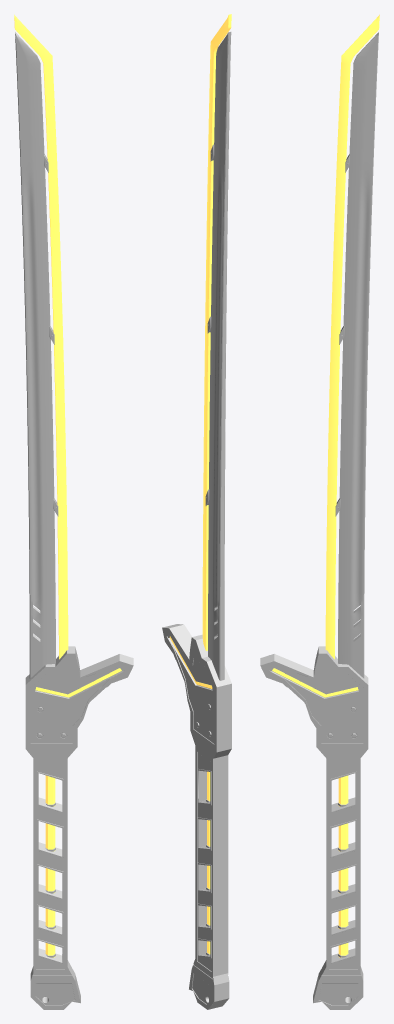
Rendered from dojigiri.glb.
3 renders of one model, left to right at view 1: azimuth 90°, elevation 25°; view 2: azimuth 210°, elevation 25°; view 3: azimuth 270°, elevation 25°, orthographic.
Parts seen in each view (by area): view 1: DOJIGIRI; view 2: DOJIGIRI; view 3: DOJIGIRI.
Boxes of the visible parts, bbox=[...] form: DOJIGIRI: bbox=[14, 14, 133, 1009]; DOJIGIRI: bbox=[162, 14, 231, 1009]; DOJIGIRI: bbox=[260, 14, 379, 1009].
Bounding box in the file's own units: 0.022 × 1.33 × 0.145.
